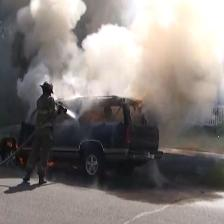smoke: (30, 0, 219, 97)
